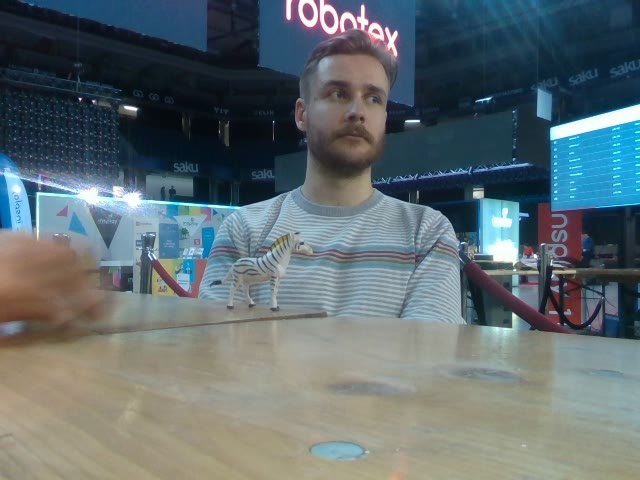toy: (209, 228, 312, 311)
